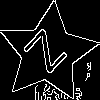Z: (23, 28, 76, 81)
